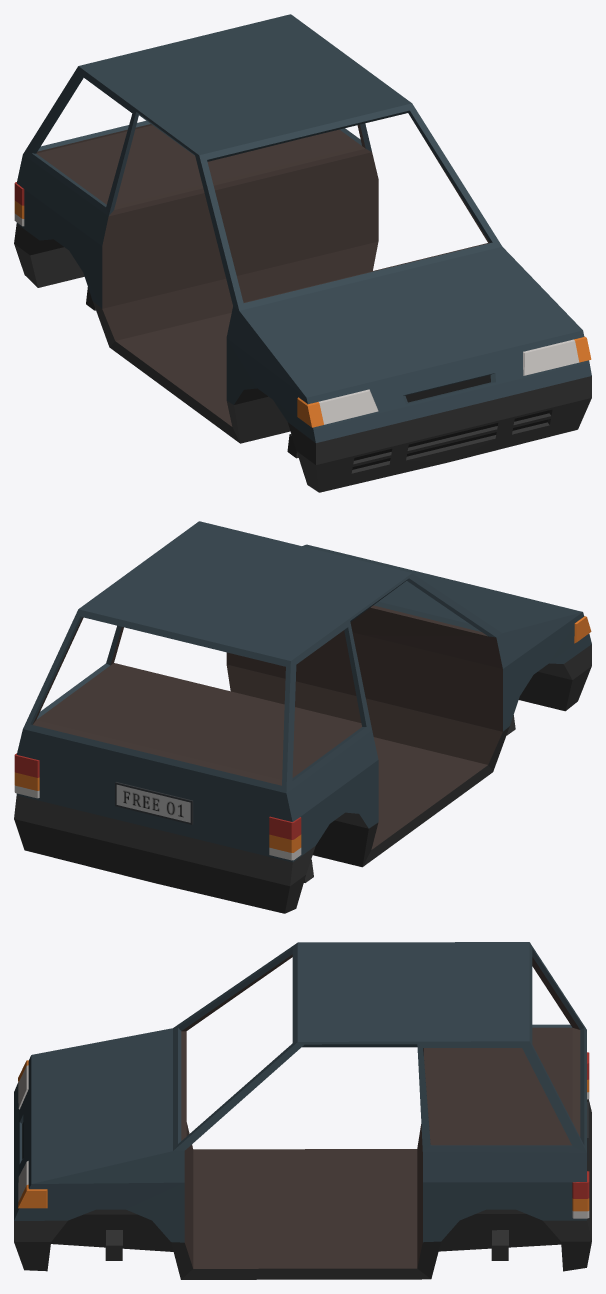
Rendered from caroceria.glb.
The picture shows the model from 3 angles, top to bottom: view 1: azimuth 30°, elevation 25°; view 2: azimuth 150°, elevation 25°; view 3: azimuth 270°, elevation 25°; orthographic projection. The views are drawn at different scales.
Visible parts, largest first — view 1: car body; view 2: car body, free number; view 3: car body.
Part boxes in pixels (x1,y1,x2,y2): car body: (14, 14, 591, 492); car body: (14, 521, 591, 913); free number: (115, 782, 193, 824); car body: (14, 942, 591, 1279).
Bounding box in the file's own units: 1.85 × 1.51 × 3.46.
1 material, 1 textured.
